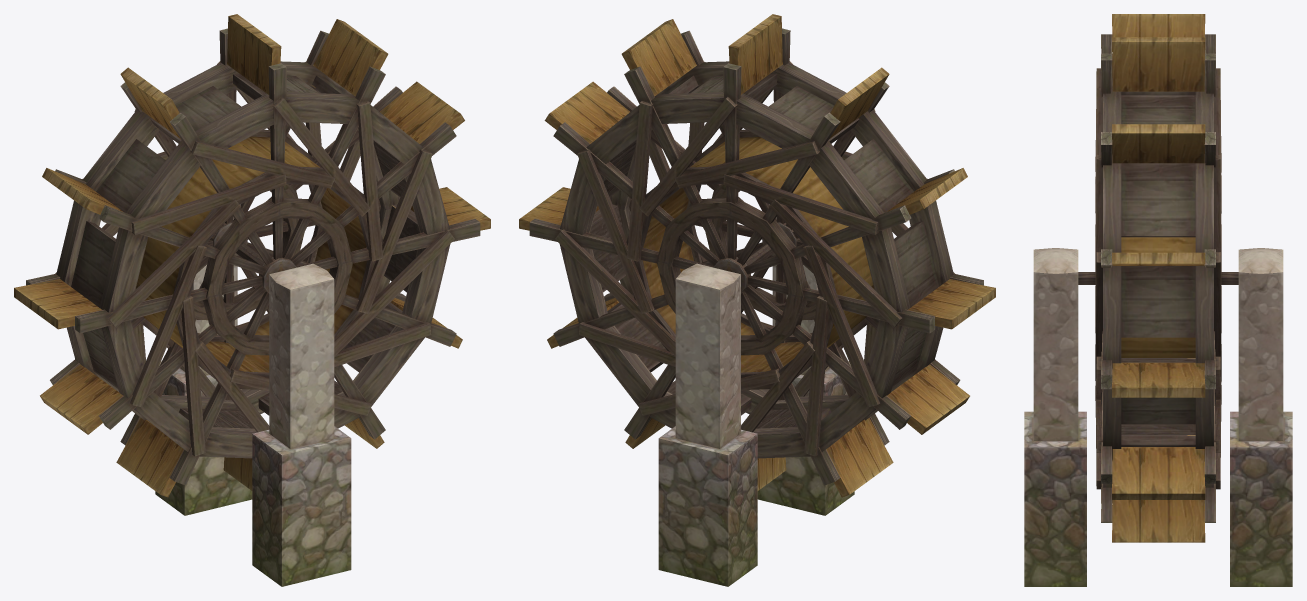
Rendered from Yegesl_jianzhu02.FBX.
3 renders of one model, left to right at view 1: azimuth 30°, elevation 25°; view 2: azimuth 150°, elevation 25°; view 3: azimuth 270°, elevation 25°, orthographic. The views are drawn at different scales.
Parts seen in each view (by area): view 1: Yegesl_jianzhu02; view 2: Yegesl_jianzhu02; view 3: Yegesl_jianzhu02.
Boxes of the visible parts, x1,y1,x2,y2 form: Yegesl_jianzhu02: [14, 14, 490, 586]; Yegesl_jianzhu02: [519, 14, 995, 586]; Yegesl_jianzhu02: [1024, 14, 1292, 586].
Size of the model in its own units: 135 by 68.57 by 150.
